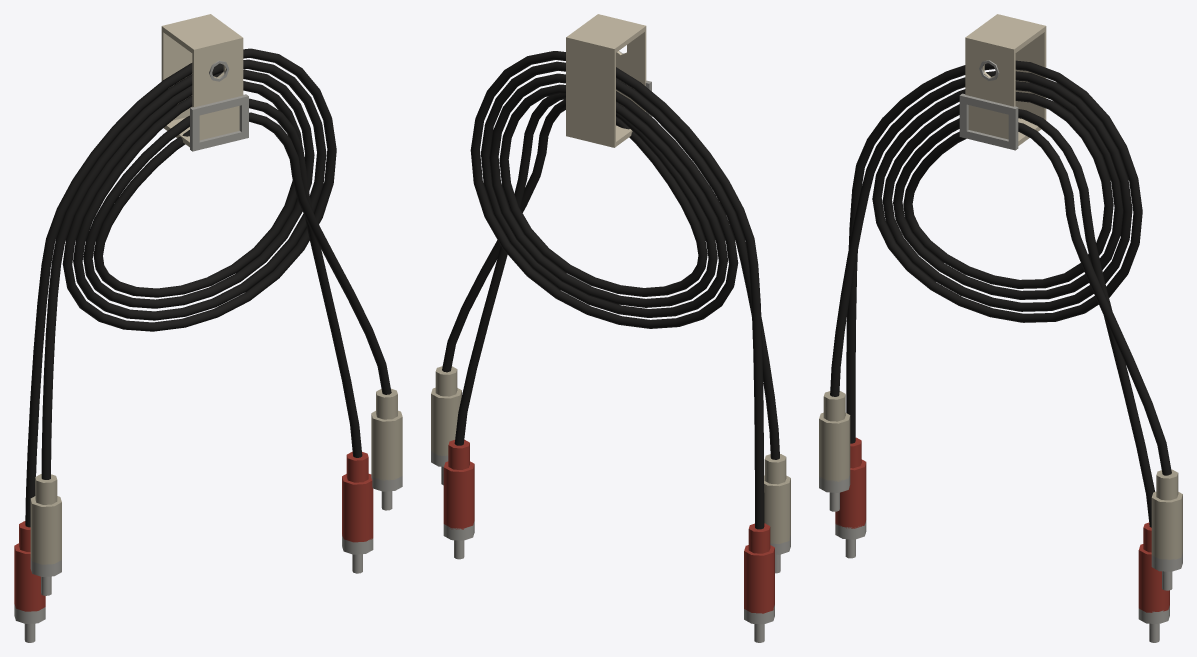
File: cable-coil-small-phono-af73bb9e4c57.glb
3 views of the same model, side by side, from view 1: azimuth 30°, elevation 25°; view 2: azimuth 150°, elevation 25°; view 3: azimuth 330°, elevation 25° (orthographic).
Parts seen in each view (by area): view 1: rubber, cloth-cream, plastic-light, accent-warm, brushed; view 2: rubber, cloth-cream, accent-warm, plastic-light, brushed; view 3: rubber, cloth-cream, plastic-light, brushed, accent-warm.
Part boxes in pixels (<box>): rubber: <box>25,48,391,527</box>; cloth-cream: <box>161,14,243,147</box>; plastic-light: <box>30,388,402,564</box>; accent-warm: <box>14,451,373,611</box>; brushed: <box>14,60,402,642</box>; rubber: <box>442,51,779,529</box>; cloth-cream: <box>566,14,646,147</box>; accent-warm: <box>443,439,774,613</box>; plastic-light: <box>431,366,790,543</box>; brushed: <box>431,51,790,642</box>; rubber: <box>830,60,1171,527</box>; cloth-cream: <box>965,14,1046,145</box>; plastic-light: <box>819,391,1182,559</box>; brushed: <box>819,60,1182,642</box>; accent-warm: <box>835,437,1169,612</box>.
Size of the model in its own units: 0.156 by 0.234 by 0.026.
